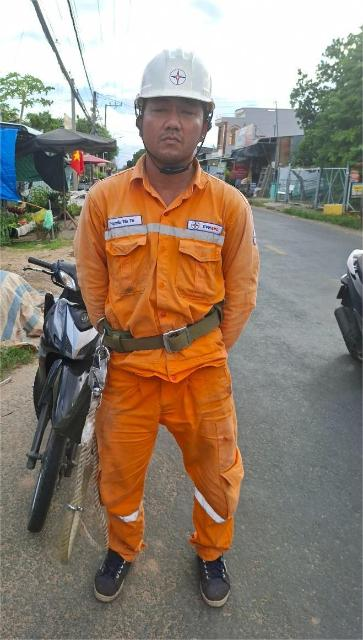harness: (68, 289, 261, 370)
helmet: (134, 42, 232, 116)
shoes: (75, 526, 158, 613), (194, 536, 243, 605)
